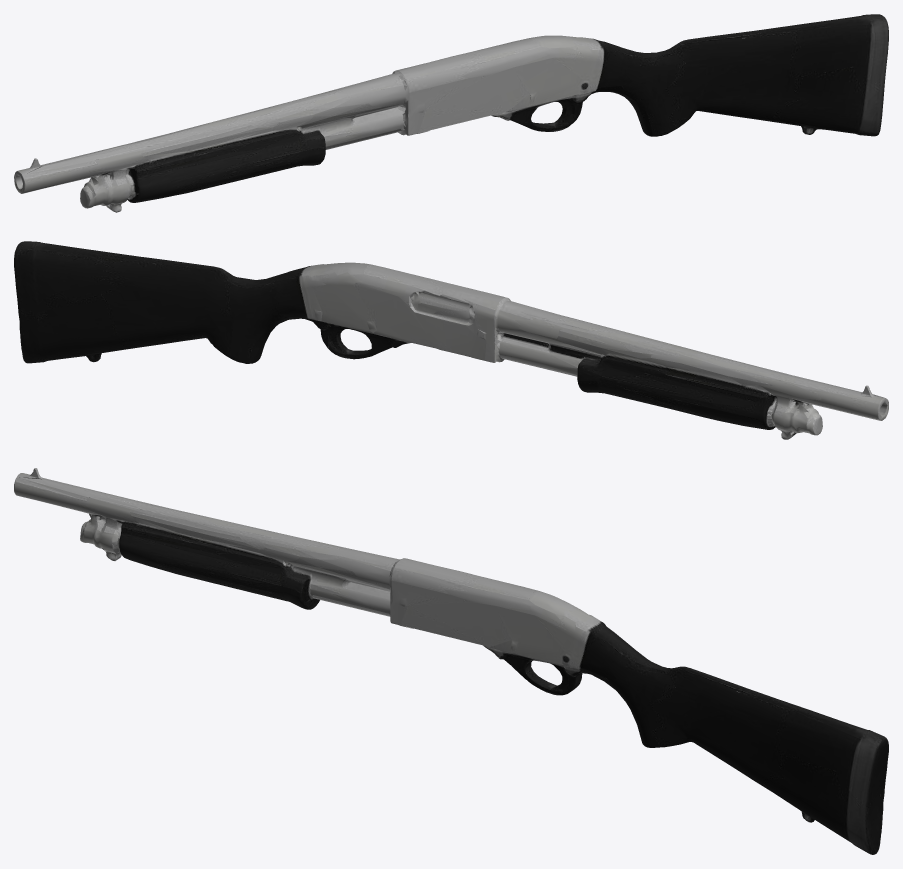
File: w-shotgun.glb
3 views of the same model, one above another, from view 1: azimuth 30°, elevation 25°; view 2: azimuth 150°, elevation 25°; view 3: azimuth 330°, elevation 25° (orthographic).
Bounding box in the file's own units: 1.9 × 0.3812 × 0.0926.
1 material, 1 textured.
